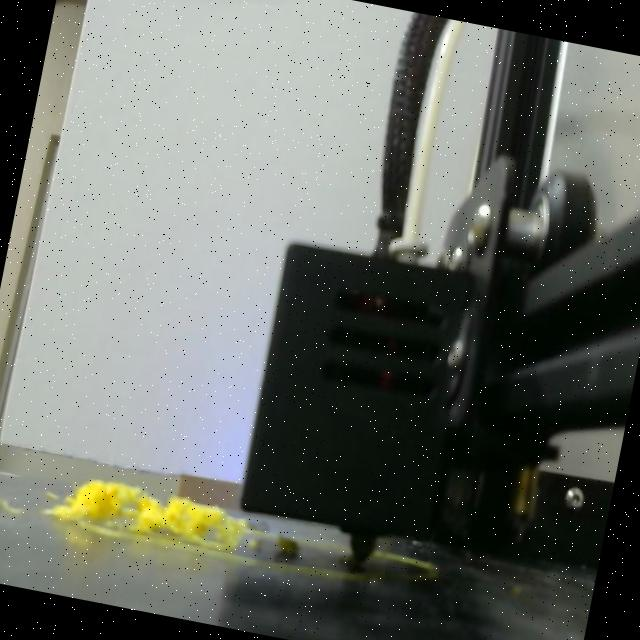spaghetti: (35, 448, 262, 586)
